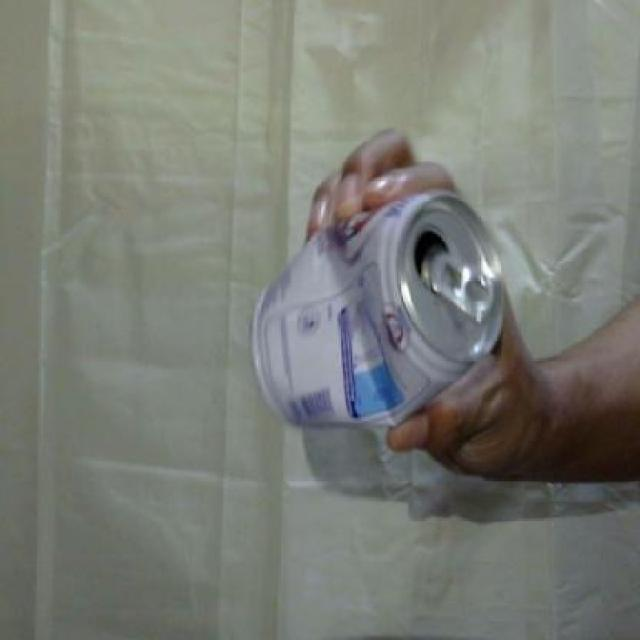Metal: (237, 180, 511, 440)
